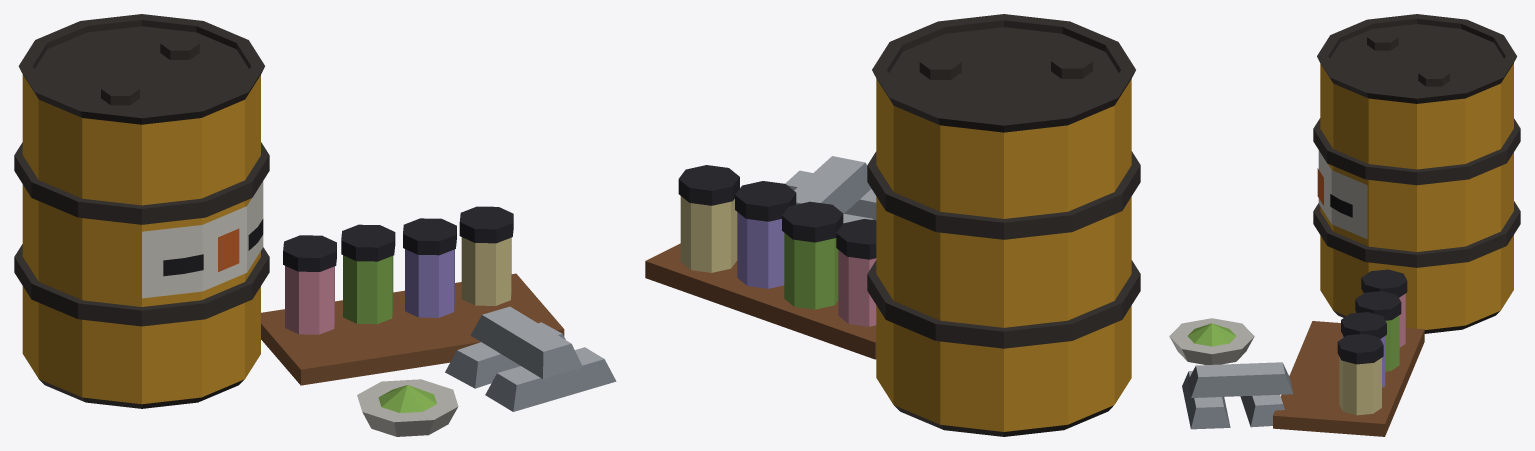
File: terresrares.glb
3 renders of one model, left to right at view 1: azimuth 30°, elevation 25°; view 2: azimuth 150°, elevation 25°; view 3: azimuth 270°, elevation 25°, orthographic. The views are drawn at different scales.
Parts seen in each view (by area): view 1: terresrares; view 2: terresrares; view 3: terresrares.
Boxes of the visible parts, <box> form: terresrares: <box>14,14,616,436</box>; terresrares: <box>645,14,1140,436</box>; terresrares: <box>1169,14,1520,436</box>.
Bounding box in the file's own units: 0.7663 × 0.47 × 0.617.
